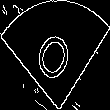O_SW: (31, 21, 79, 89)
